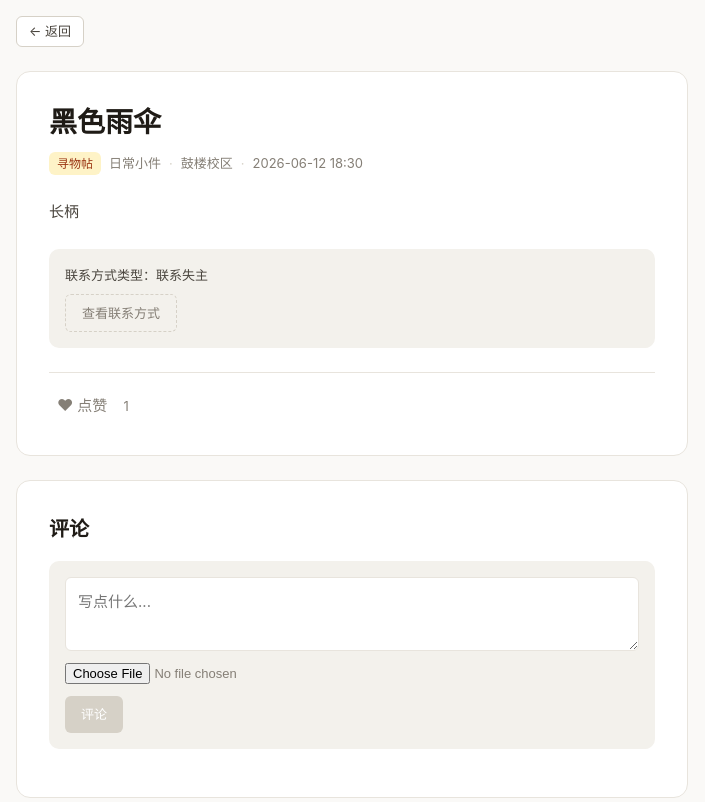
it: PostDetail › 默认隐藏 contact_detail 直到点击查看
The image size is (705, 802).
Check: the text "微信 abc123" is not shown
Click the button with test id "reveal-contact" at [121, 313], box 65,294 -> 177,332
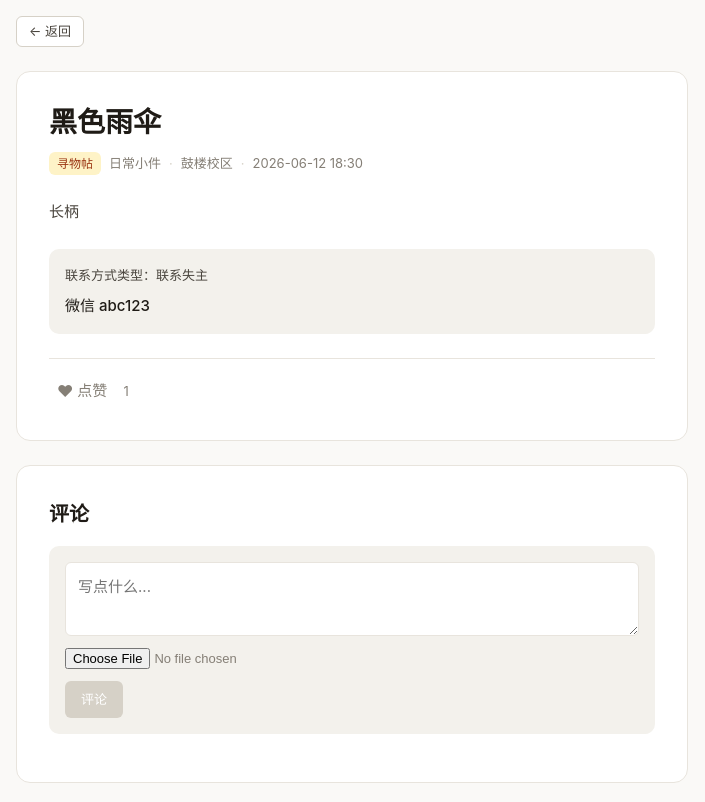
Check: the text "微信 abc123" is shown, box 65,296 -> 150,315
